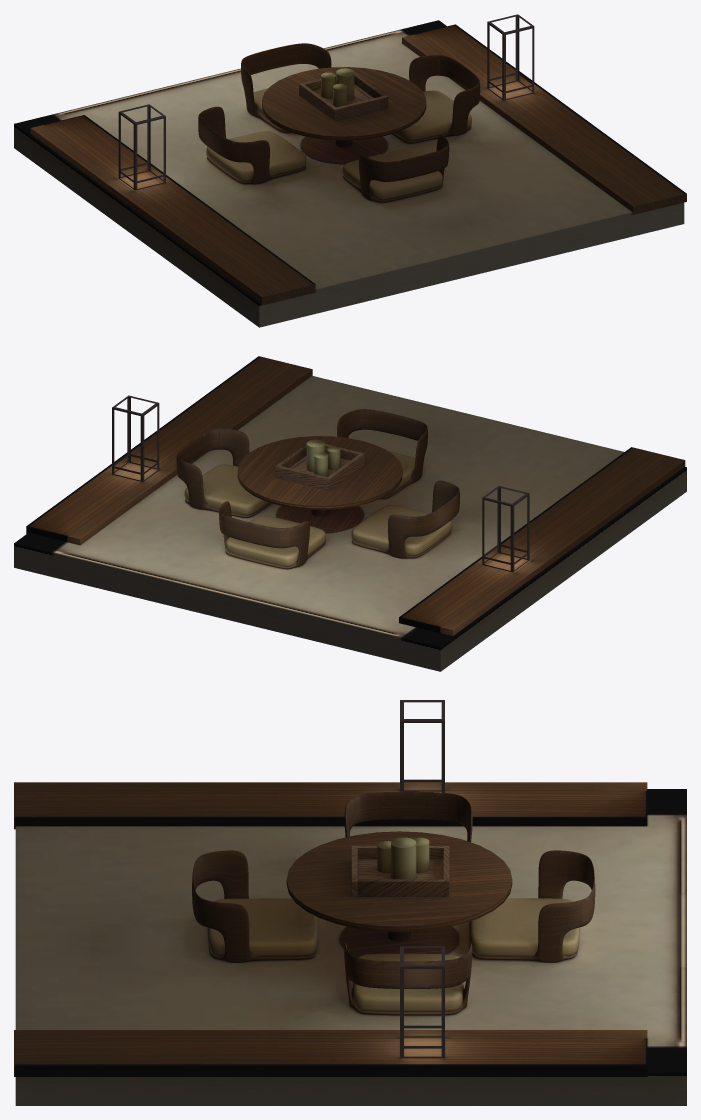
Rendered from room-transformed.glb.
The picture shows the model from 3 angles, top to bottom: view 1: azimuth 30°, elevation 25°; view 2: azimuth 150°, elevation 25°; view 3: azimuth 270°, elevation 25°; orthographic projection. The views are drawn at different scales.
Parts seen in each view (by area): view 1: Object_10; view 2: Object_10; view 3: Object_10.
Part boxes in pixels (x1,y1,x2,y2): Object_10: [14, 14, 686, 327]; Object_10: [14, 356, 686, 671]; Object_10: [14, 700, 686, 1105].
Size of the model in its own units: 26.33 by 5.72 by 26.27.
Materials: 11 (10 with a texture image).
